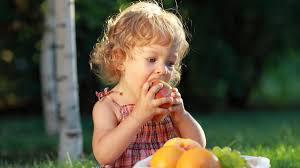child: (80, 2, 216, 166)
